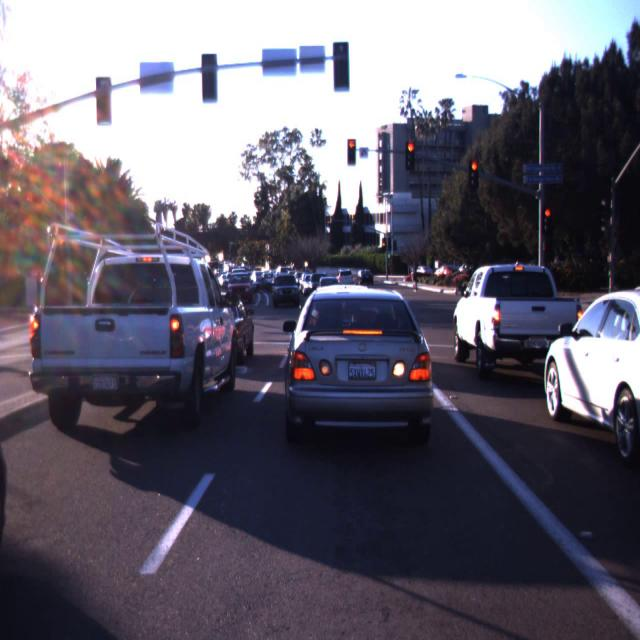arka_lamba: (332, 41, 350, 92), (201, 53, 218, 104), (96, 77, 112, 126)
kirmizi: (405, 141, 415, 171), (468, 160, 478, 189), (347, 139, 356, 166)
